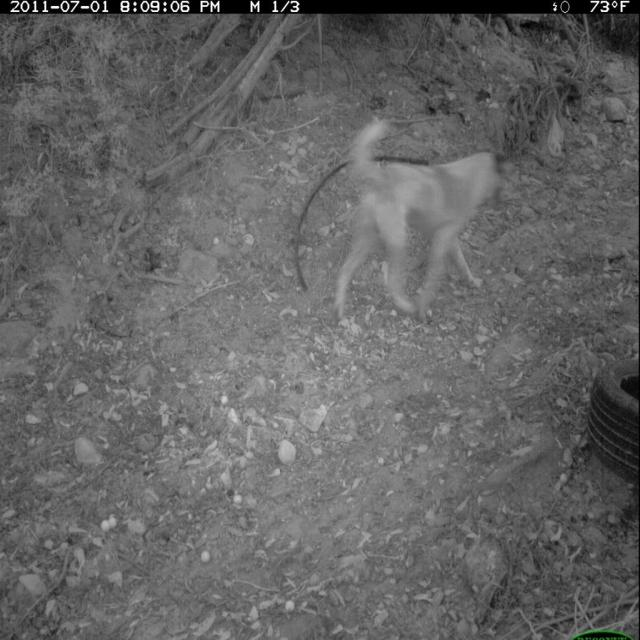dog: (324, 109, 522, 336)
